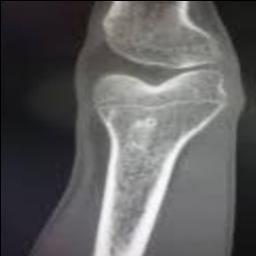cancer: (121, 111, 158, 169)
